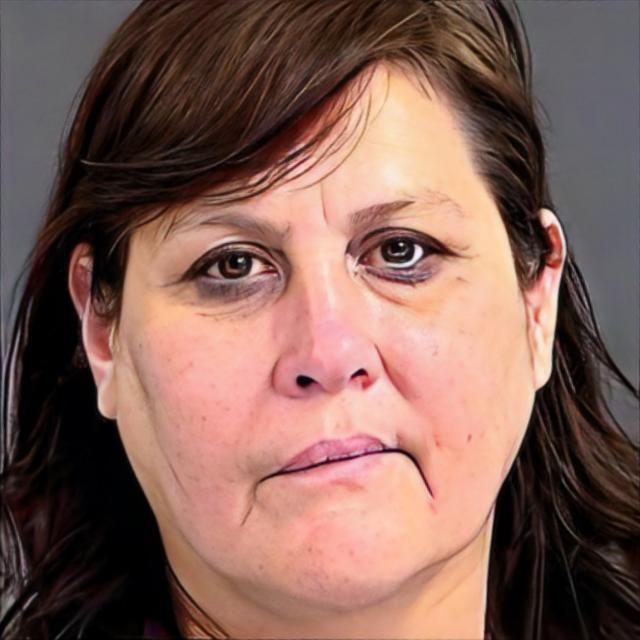content: (118, 46, 542, 608)
